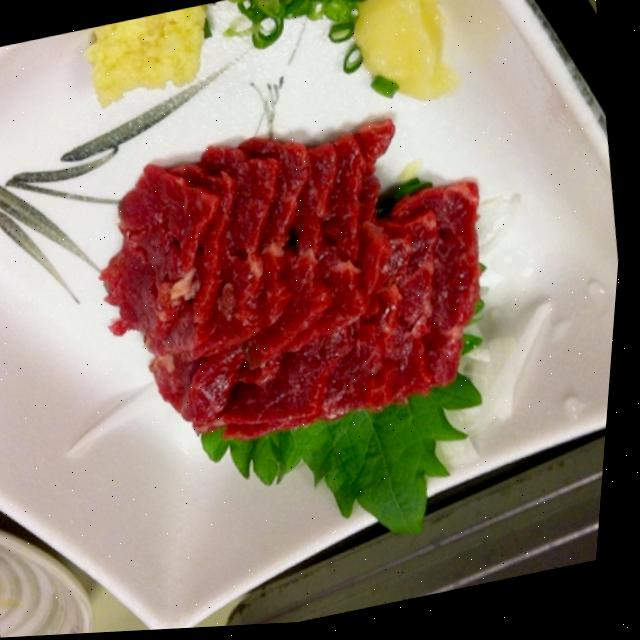刺身生食: (36, 35, 590, 539)
